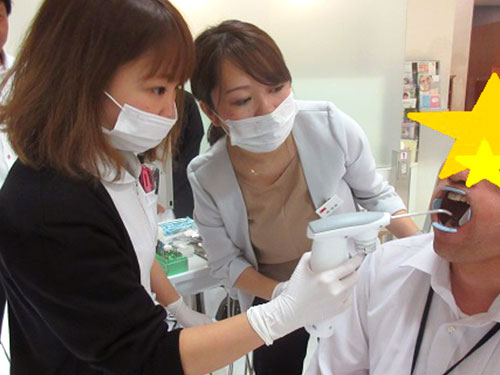mask: (227, 90, 298, 154), (102, 105, 178, 152)
